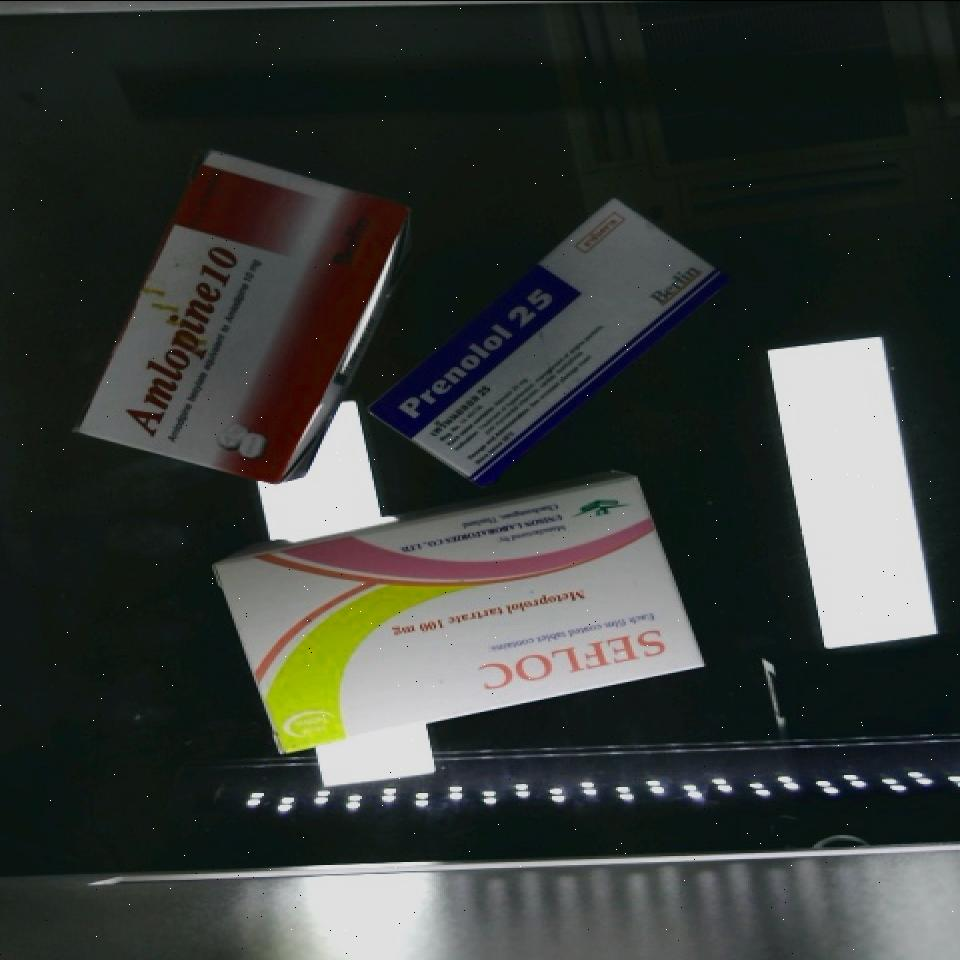medicine_box: (211, 468, 703, 760), (76, 117, 407, 518), (364, 171, 720, 508)
medicine_label_obb: (104, 218, 268, 464), (370, 256, 572, 444), (460, 599, 684, 706)
